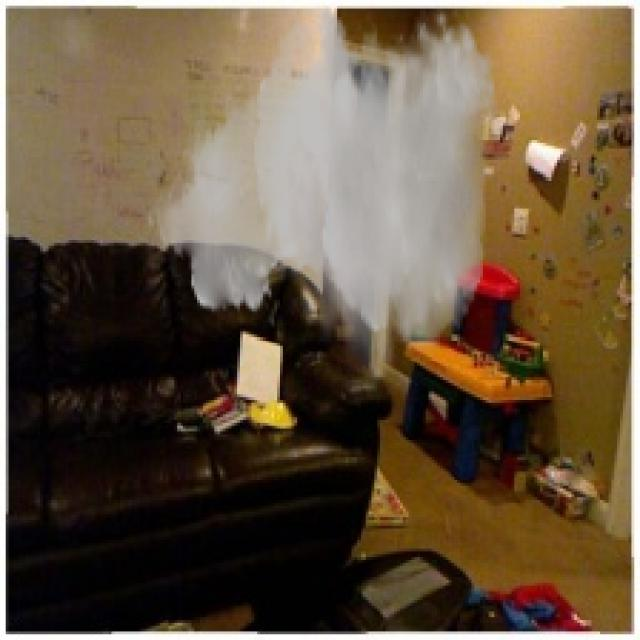smoke: (146, 3, 497, 397)
